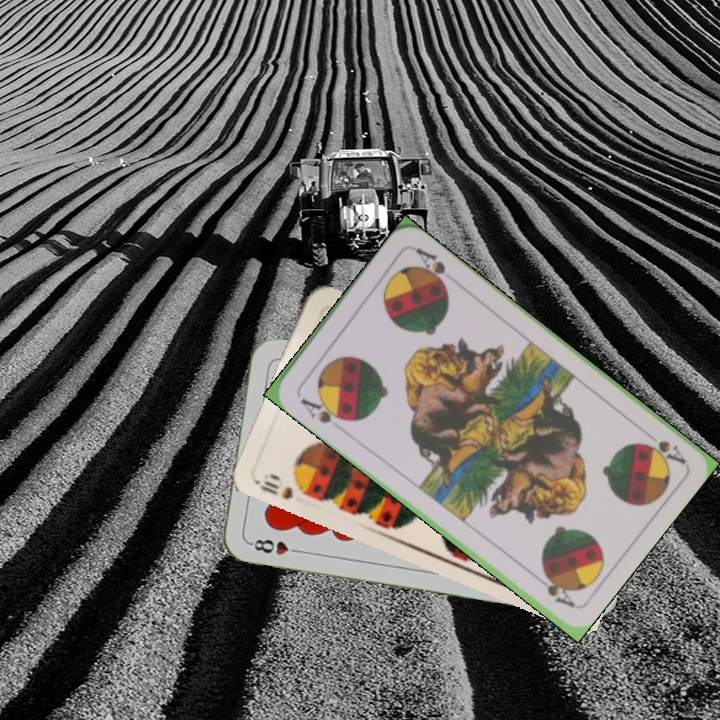H8: (246, 535, 305, 558)
S10: (253, 469, 312, 502)
SA: (637, 424, 688, 467), (296, 393, 350, 427)
